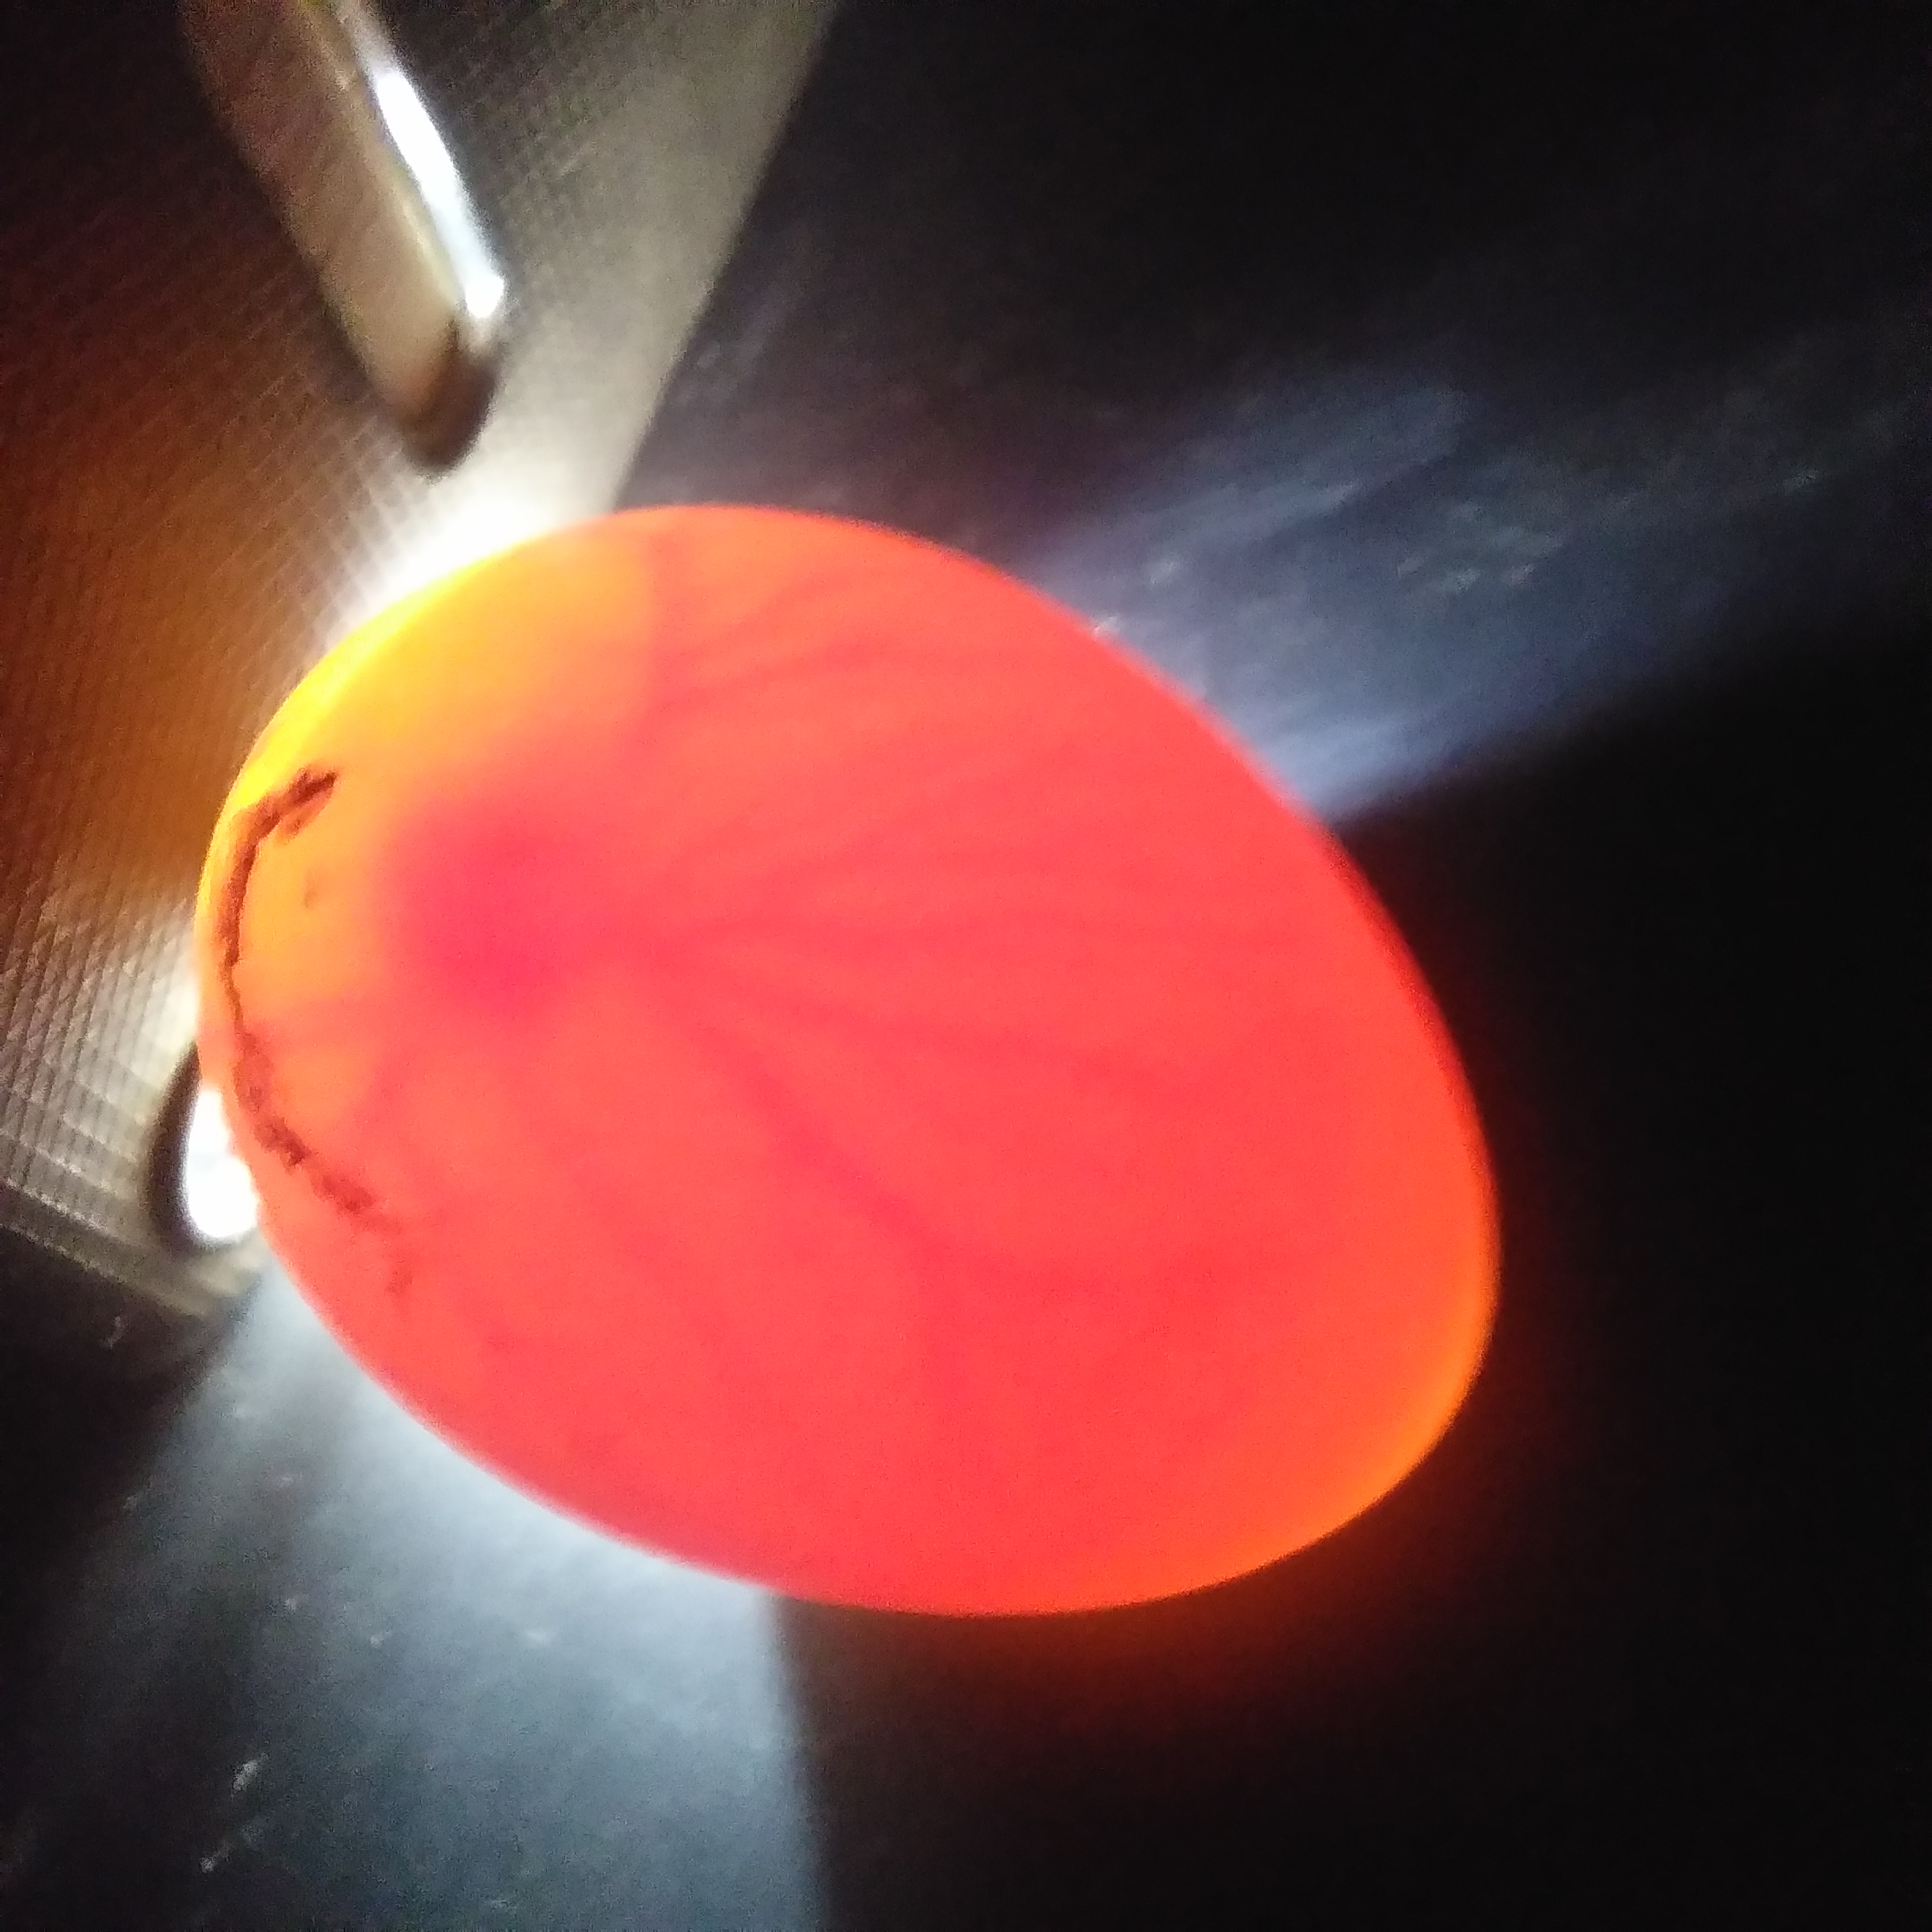bloodcell: (630, 621, 1129, 1345)
embryo: (380, 812, 596, 1035)
